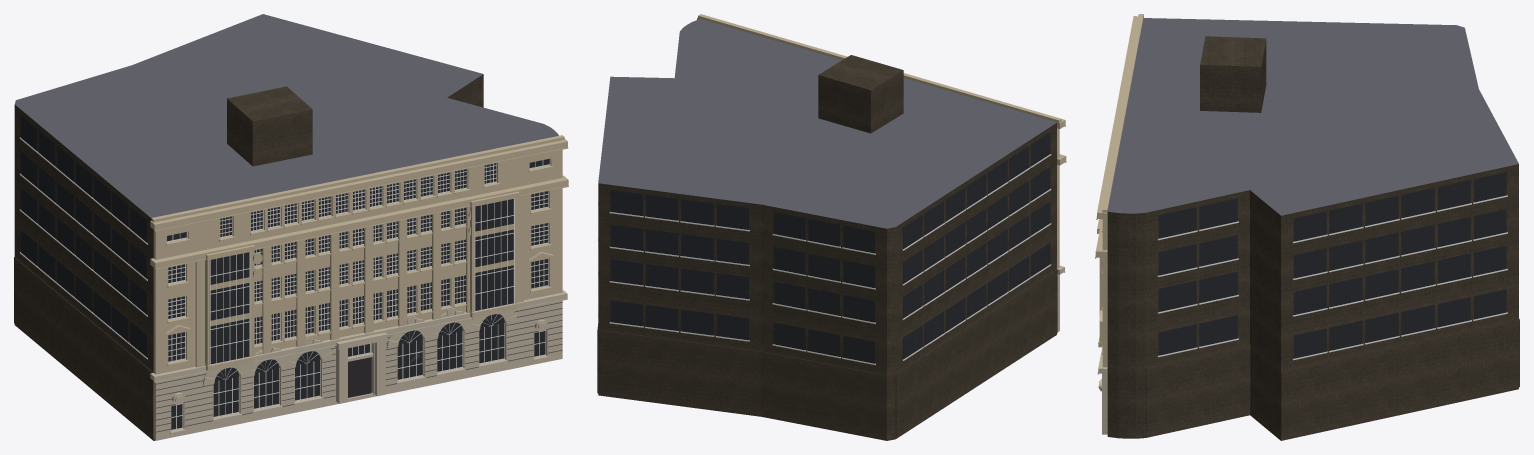
File: hero.glb
The picture shows the model from 3 angles, left to right: view 1: azimuth 30°, elevation 25°; view 2: azimuth 150°, elevation 25°; view 3: azimuth 270°, elevation 25°; orthographic projection. The views are drawn at different scales.
Parts seen in each view (by area): view 1: HERO_body, HERO_cornice.001, HERO_glass; view 2: HERO_body, HERO_glass, HERO_cornice.001; view 3: HERO_body, HERO_glass, HERO_cornice.001.
Part boxes in pixels (x1=…): HERO_body: x1=14, y1=14, x2=567, y2=440; HERO_cornice.001: x1=150, y1=135, x2=568, y2=374; HERO_glass: x1=20, y1=115, x2=549, y2=429; HERO_body: x1=597, y1=19, x2=1064, y2=440; HERO_glass: x1=610, y1=132, x2=1050, y2=363; HERO_cornice.001: x1=697, y1=14, x2=1066, y2=268; HERO_body: x1=1097, y1=18, x2=1519, y2=440; HERO_glass: x1=1158, y1=172, x2=1506, y2=358; HERO_cornice.001: x1=1095, y1=14, x2=1143, y2=367.
Bounding box in the file's own units: 38.64 × 24.43 × 34.67.
4 materials, 4 textured.
